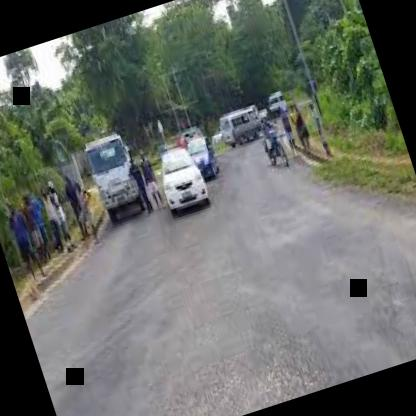car: (80, 112, 162, 240), (148, 132, 218, 227), (174, 105, 229, 202), (214, 90, 277, 166)
